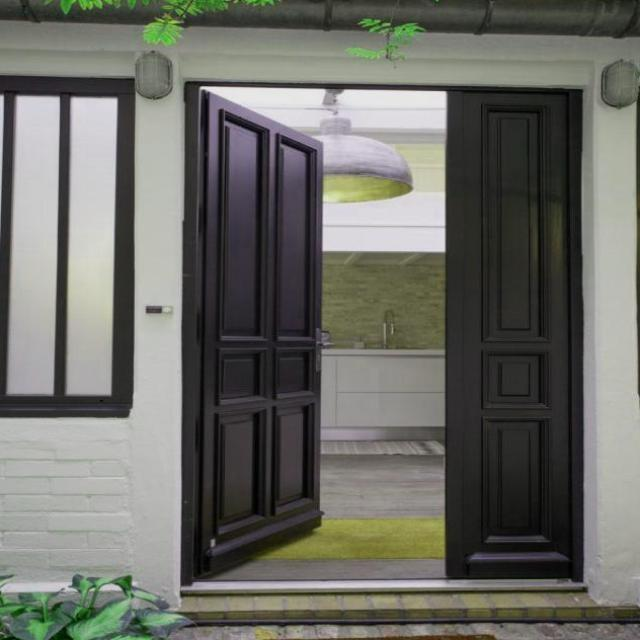door: (193, 89, 324, 576)
